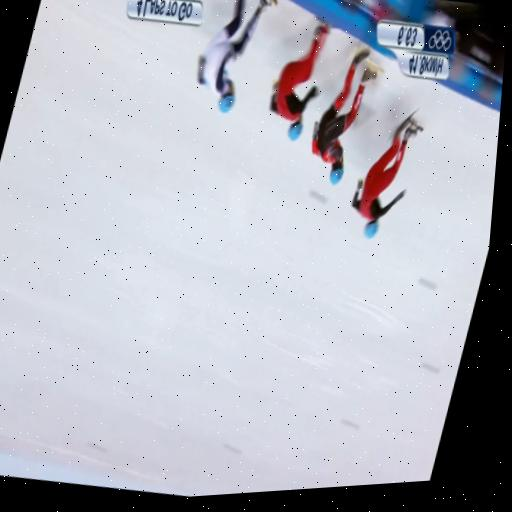Skater: (312, 48, 381, 184), (198, 0, 277, 111), (352, 118, 422, 237), (270, 21, 330, 140)
